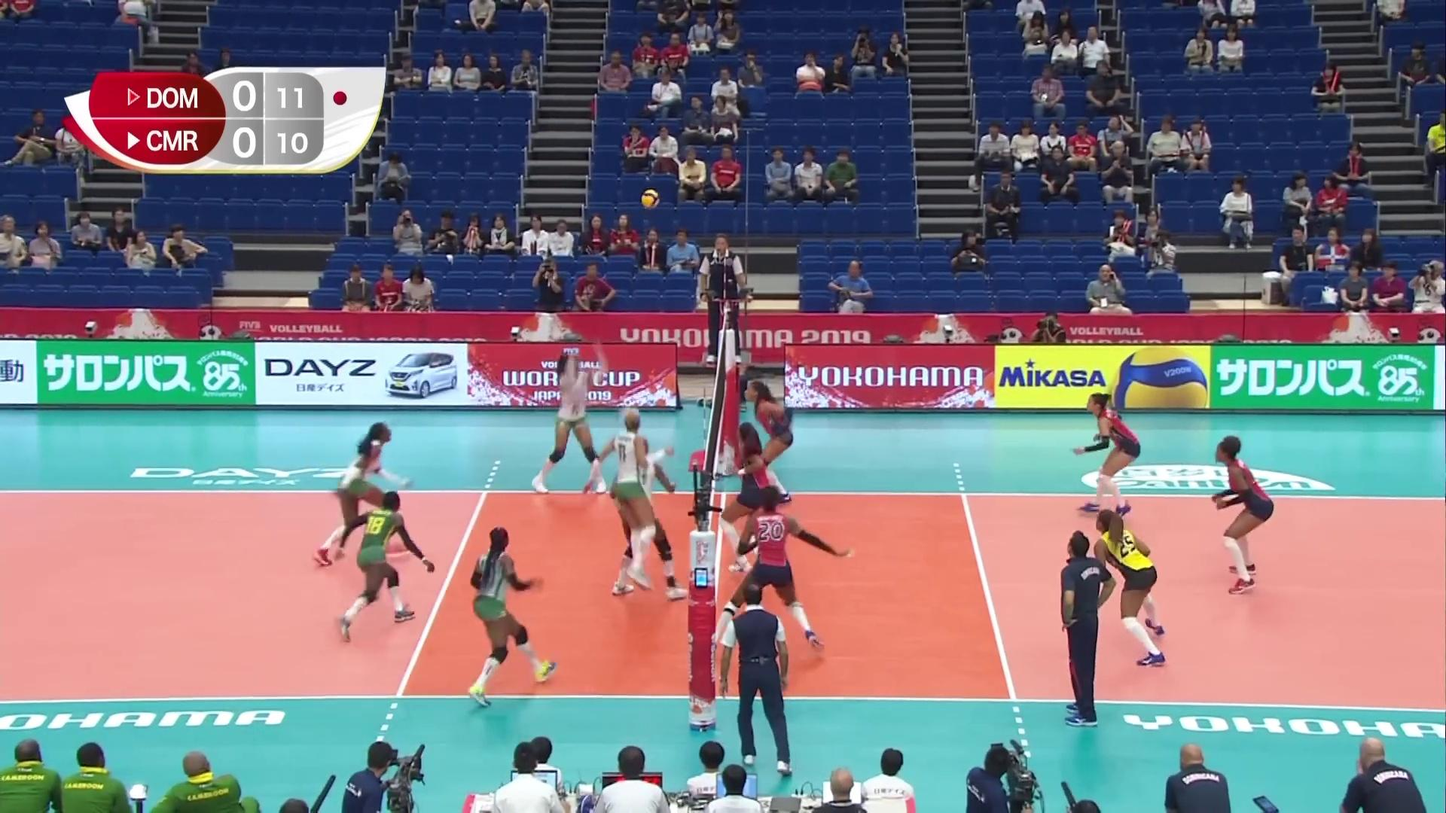player: (728, 491, 852, 656), (464, 529, 563, 702), (336, 492, 434, 636), (582, 412, 661, 589), (315, 422, 410, 569), (1090, 510, 1173, 668), (618, 431, 686, 599), (1212, 438, 1282, 597), (534, 353, 609, 495), (721, 422, 782, 579), (1073, 393, 1148, 520), (739, 382, 796, 508)
refree: (723, 583, 795, 775), (700, 232, 749, 366)
